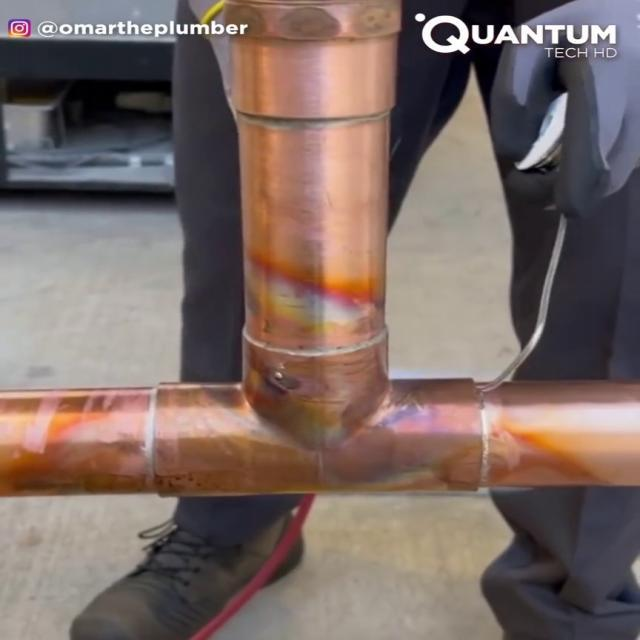Good Weld: (238, 332, 396, 354), (138, 386, 162, 486), (474, 386, 492, 488)
